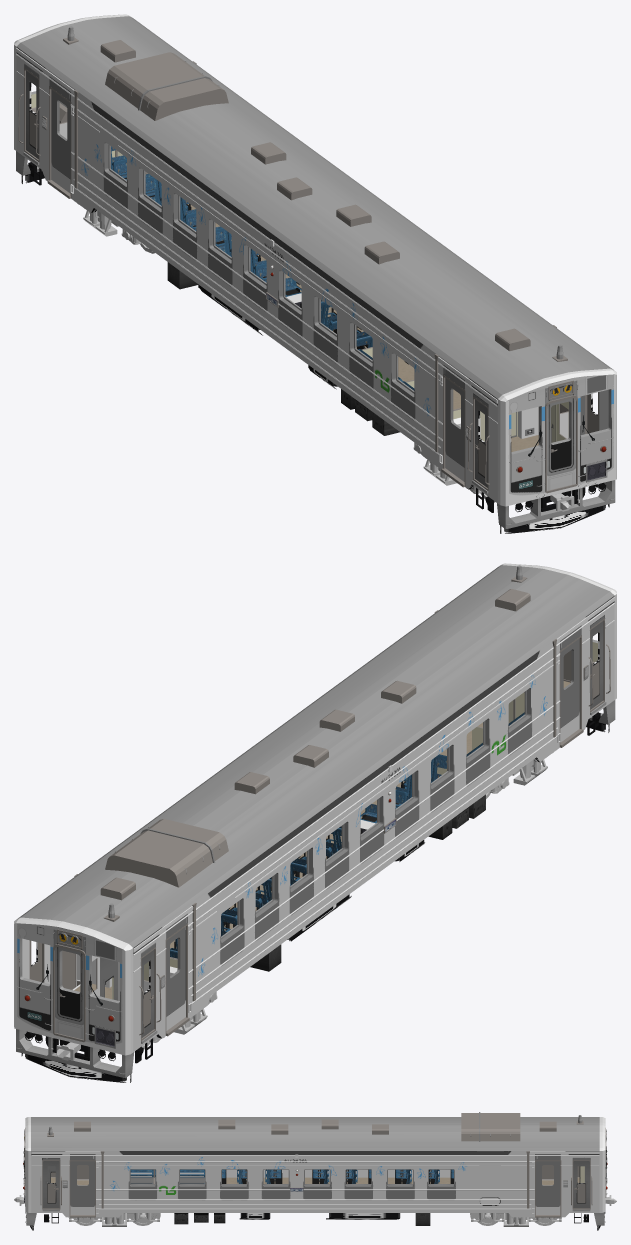
File: kiha54_srt_blue.obj
3 renders of one model, top to bottom at view 1: azimuth 30°, elevation 25°; view 2: azimuth 150°, elevation 25°; view 3: azimuth 270°, elevation 25°, orthographic. The views are drawn at different scales.
Parts seen in each view (by area): view 1: jibung, side, sidebid, aircon, front, frontparts, DT21, tongilchair, frontdoor, door_RF, door_RB, inwall (+3 smaller); view 2: jibung, side, sidebid, aircon, front, frontparts, DT21, tongilchair, frontdoor, inwall, door_RF, door_RB (+3 smaller); view 3: side, jibung, sidebid, DT21, aircon, tongilchair, frontdoor, door_LF, door_LB, windowframe_exterior, inside, badak (+2 smaller).
Boxes of the visible parts, bbox=[...] form: jibung: bbox=[14, 14, 616, 401]; side: bbox=[14, 45, 616, 506]; sidebid: bbox=[16, 47, 598, 512]; aircon: bbox=[63, 26, 567, 361]; front: bbox=[31, 91, 616, 506]; frontparts: bbox=[16, 151, 615, 533]; DT21: bbox=[77, 203, 574, 511]; tongilchair: bbox=[145, 176, 414, 390]; frontdoor: bbox=[26, 71, 599, 487]; door_RF: bbox=[445, 378, 464, 481]; door_RB: bbox=[51, 89, 70, 193]; inwall: bbox=[31, 93, 568, 444]; jibung: bbox=[14, 563, 616, 950]; side: bbox=[14, 592, 616, 1055]; sidebid: bbox=[32, 596, 615, 1063]; aircon: bbox=[100, 565, 530, 921]; front: bbox=[14, 639, 597, 1055]; frontparts: bbox=[16, 700, 615, 1082]; DT21: bbox=[56, 752, 553, 1060]; tongilchair: bbox=[221, 712, 524, 936]; frontdoor: bbox=[29, 621, 603, 1037]; inwall: bbox=[92, 642, 597, 1000]; door_RF: bbox=[560, 638, 579, 742]; door_RB: bbox=[166, 927, 185, 1030]; side: bbox=[25, 1150, 605, 1217]; jibung: bbox=[25, 1117, 605, 1150]; sidebid: bbox=[31, 1133, 599, 1223]; DT21: bbox=[14, 1195, 616, 1226]; aircon: bbox=[47, 1112, 583, 1141]; tongilchair: bbox=[130, 1169, 453, 1183]; frontdoor: bbox=[43, 1161, 589, 1208]; door_LF: bbox=[70, 1161, 95, 1214]; door_LB: bbox=[535, 1161, 560, 1214]; windowframe_exterior: bbox=[129, 1169, 454, 1185]; inside: bbox=[130, 1169, 450, 1177]; badak: bbox=[51, 1177, 579, 1185].
Size of the model in its own units: 3.15 by 4.04 by 22.14.
